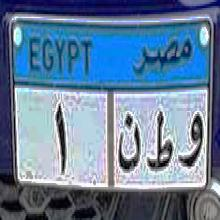1: (53, 101, 68, 172)
Taa: (147, 114, 175, 171)
noon: (117, 109, 142, 177)
waw: (178, 109, 205, 177)
